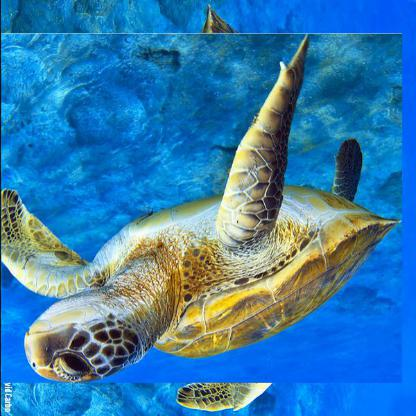turtle: (6, 19, 384, 398)
